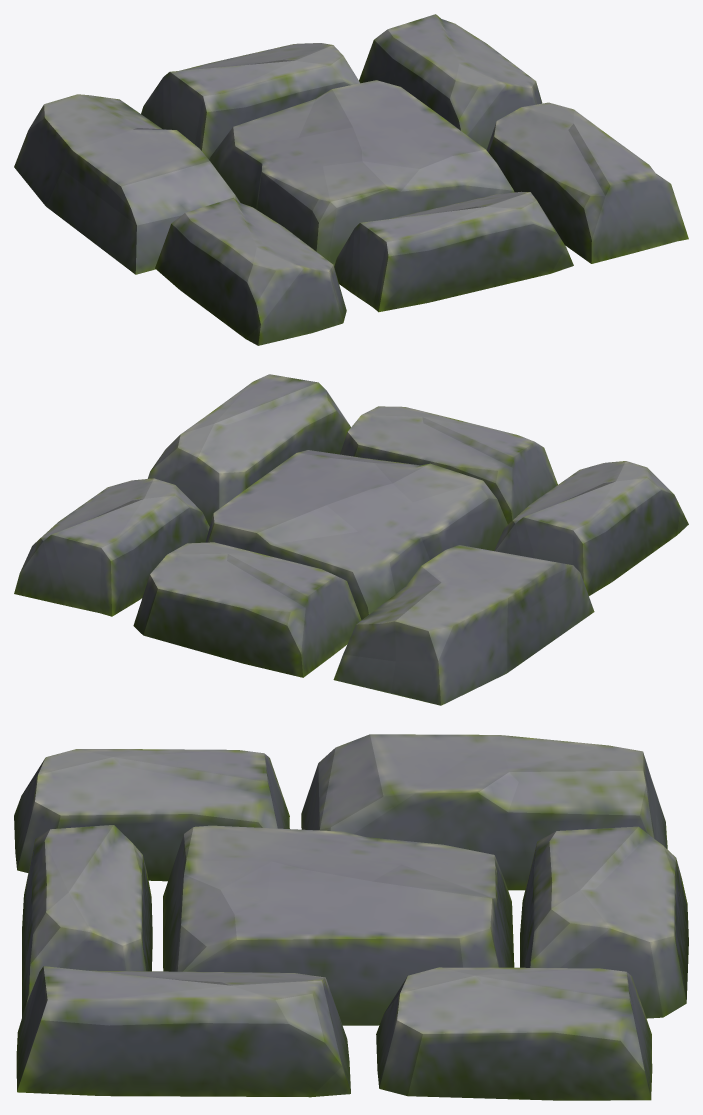
Rendered from path2.glb.
3 views of the same model, one above another, from view 1: azimuth 30°, elevation 25°; view 2: azimuth 150°, elevation 25°; view 3: azimuth 270°, elevation 25° (orthographic). The views are drawn at different scales.
Visible parts, largest first — view 1: RockPath_Square_Small_2; view 2: RockPath_Square_Small_2; view 3: RockPath_Square_Small_2.
Part boxes in pixels (box(x1,y1,x2,y2)): RockPath_Square_Small_2: box(14, 14, 688, 345); RockPath_Square_Small_2: box(14, 374, 688, 705); RockPath_Square_Small_2: box(14, 734, 688, 1100).
Size of the model in its own units: 0.9927 by 0.1493 by 0.9661.
Materials: 1 (1 with a texture image).
